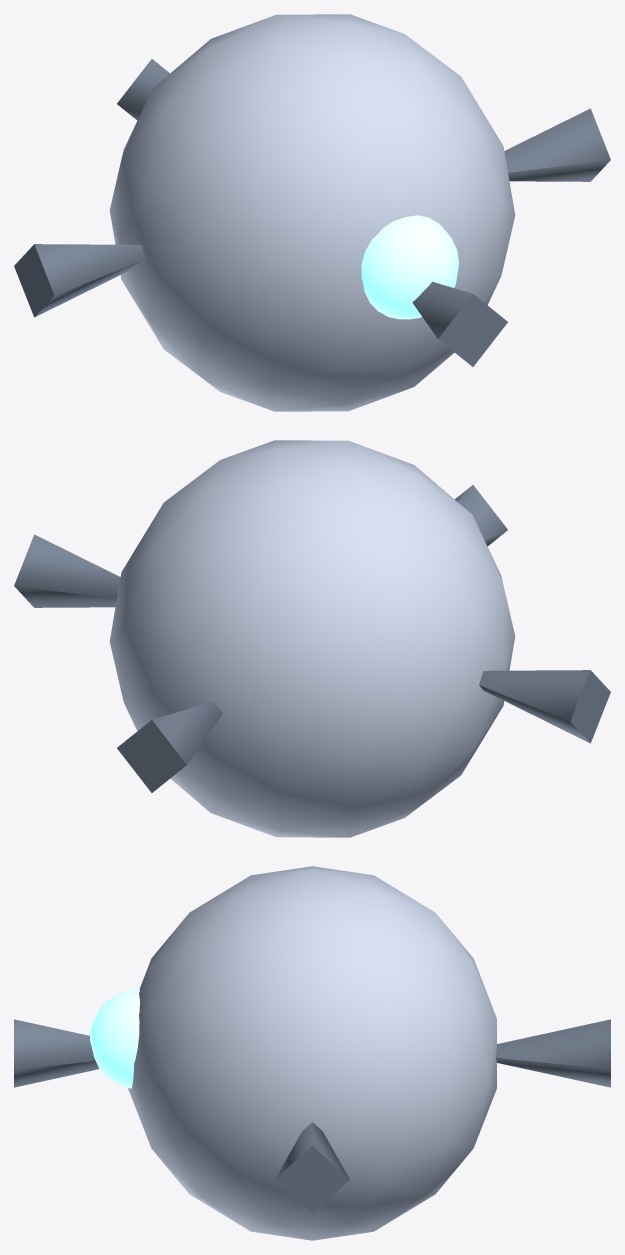
Rendered from chrome_sentry.glb.
3 renders of one model, top to bottom at view 1: azimuth 30°, elevation 25°; view 2: azimuth 150°, elevation 25°; view 3: azimuth 270°, elevation 25°, orthographic. The views are drawn at different scales.
Visible parts, largest first — view 1: core; view 2: core; view 3: core.
Part boxes in pixels (left/top/right/bottom): core: left=14, top=14, right=610, bottom=411; core: left=14, top=440, right=610, bottom=837; core: left=14, top=866, right=610, bottom=1240.
Size of the model in its own units: 1.9 by 1.18 by 1.9.
